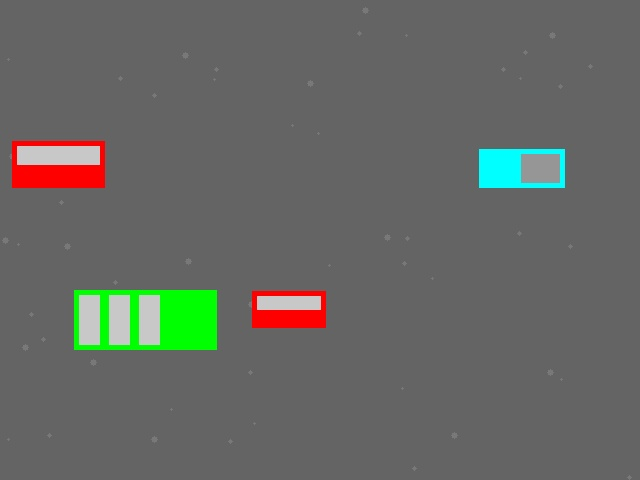bus: (74, 290, 216, 349)
car: (12, 141, 104, 187), (252, 291, 325, 327)
truck: (479, 149, 564, 187)
